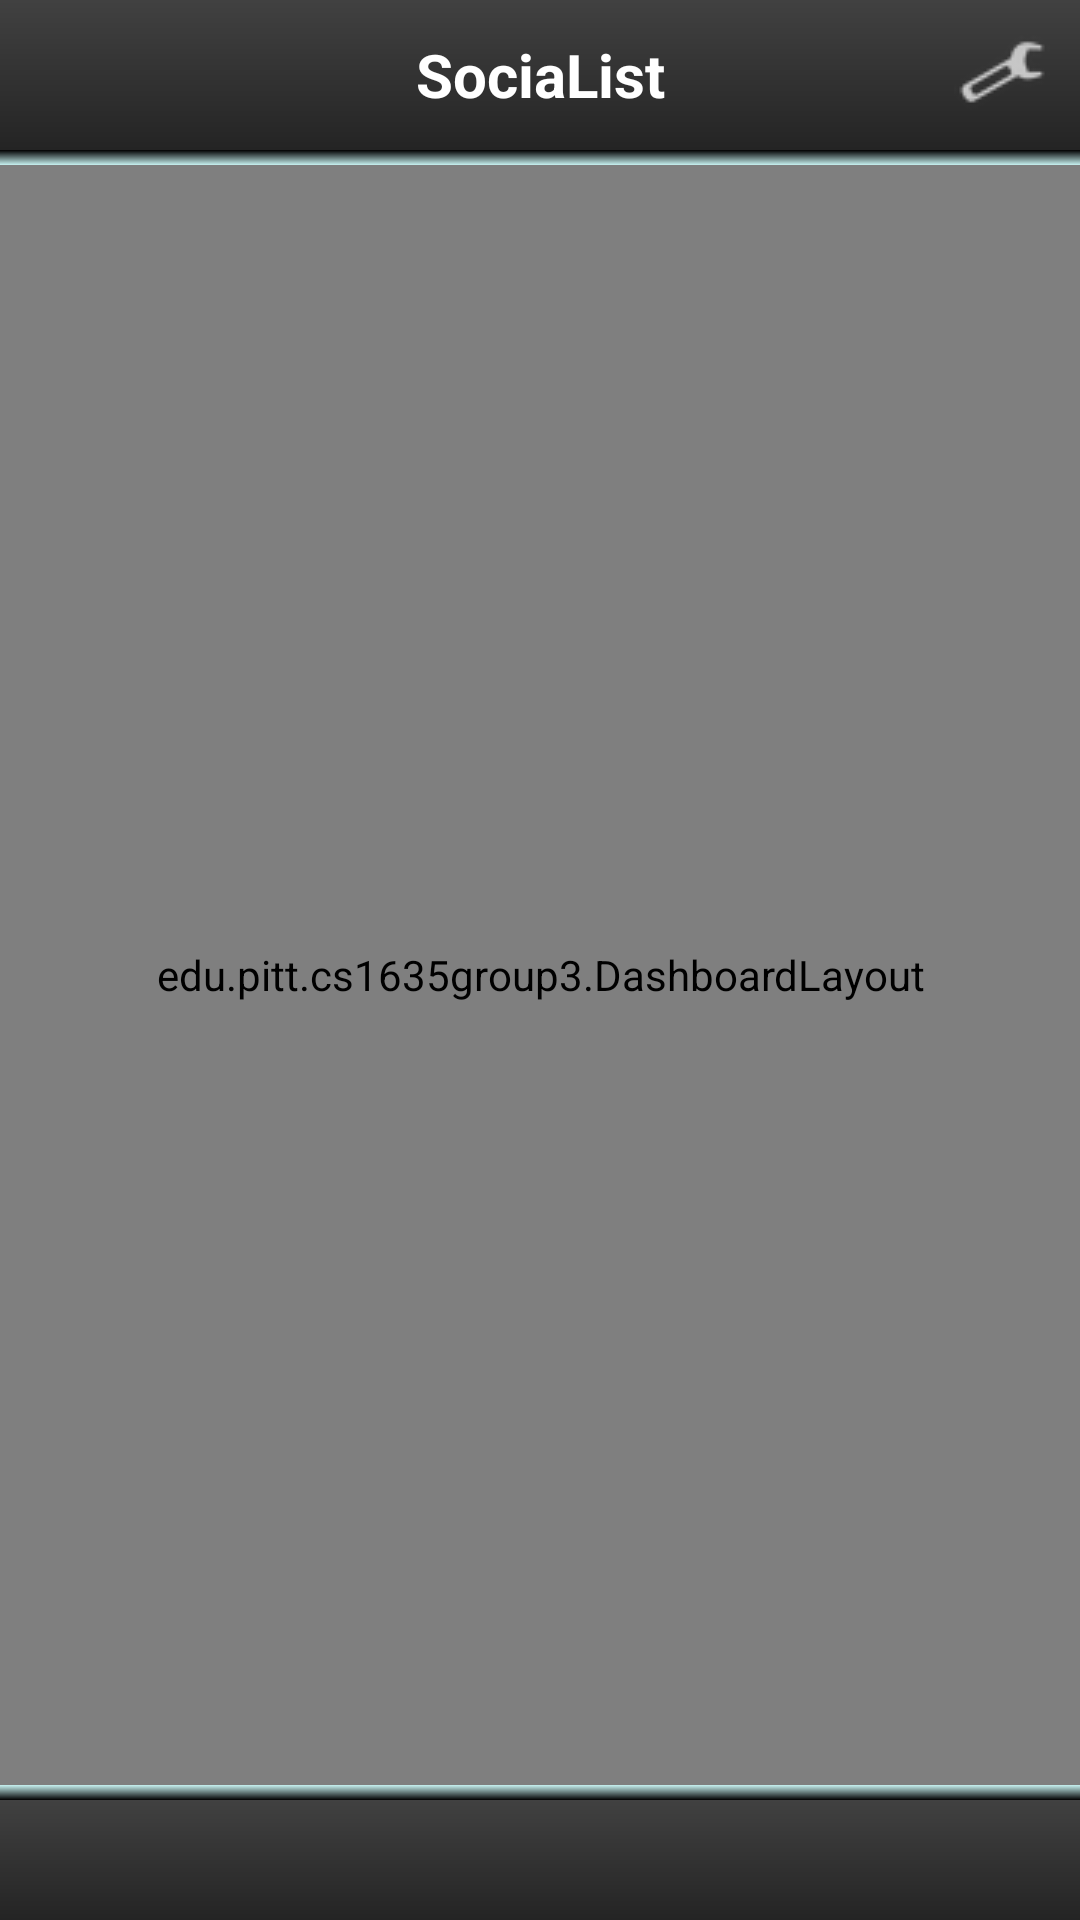

Point at icon controls on the screen. Image size 1080px x 1920px, points as [x,y].
settings: [1017,63]
